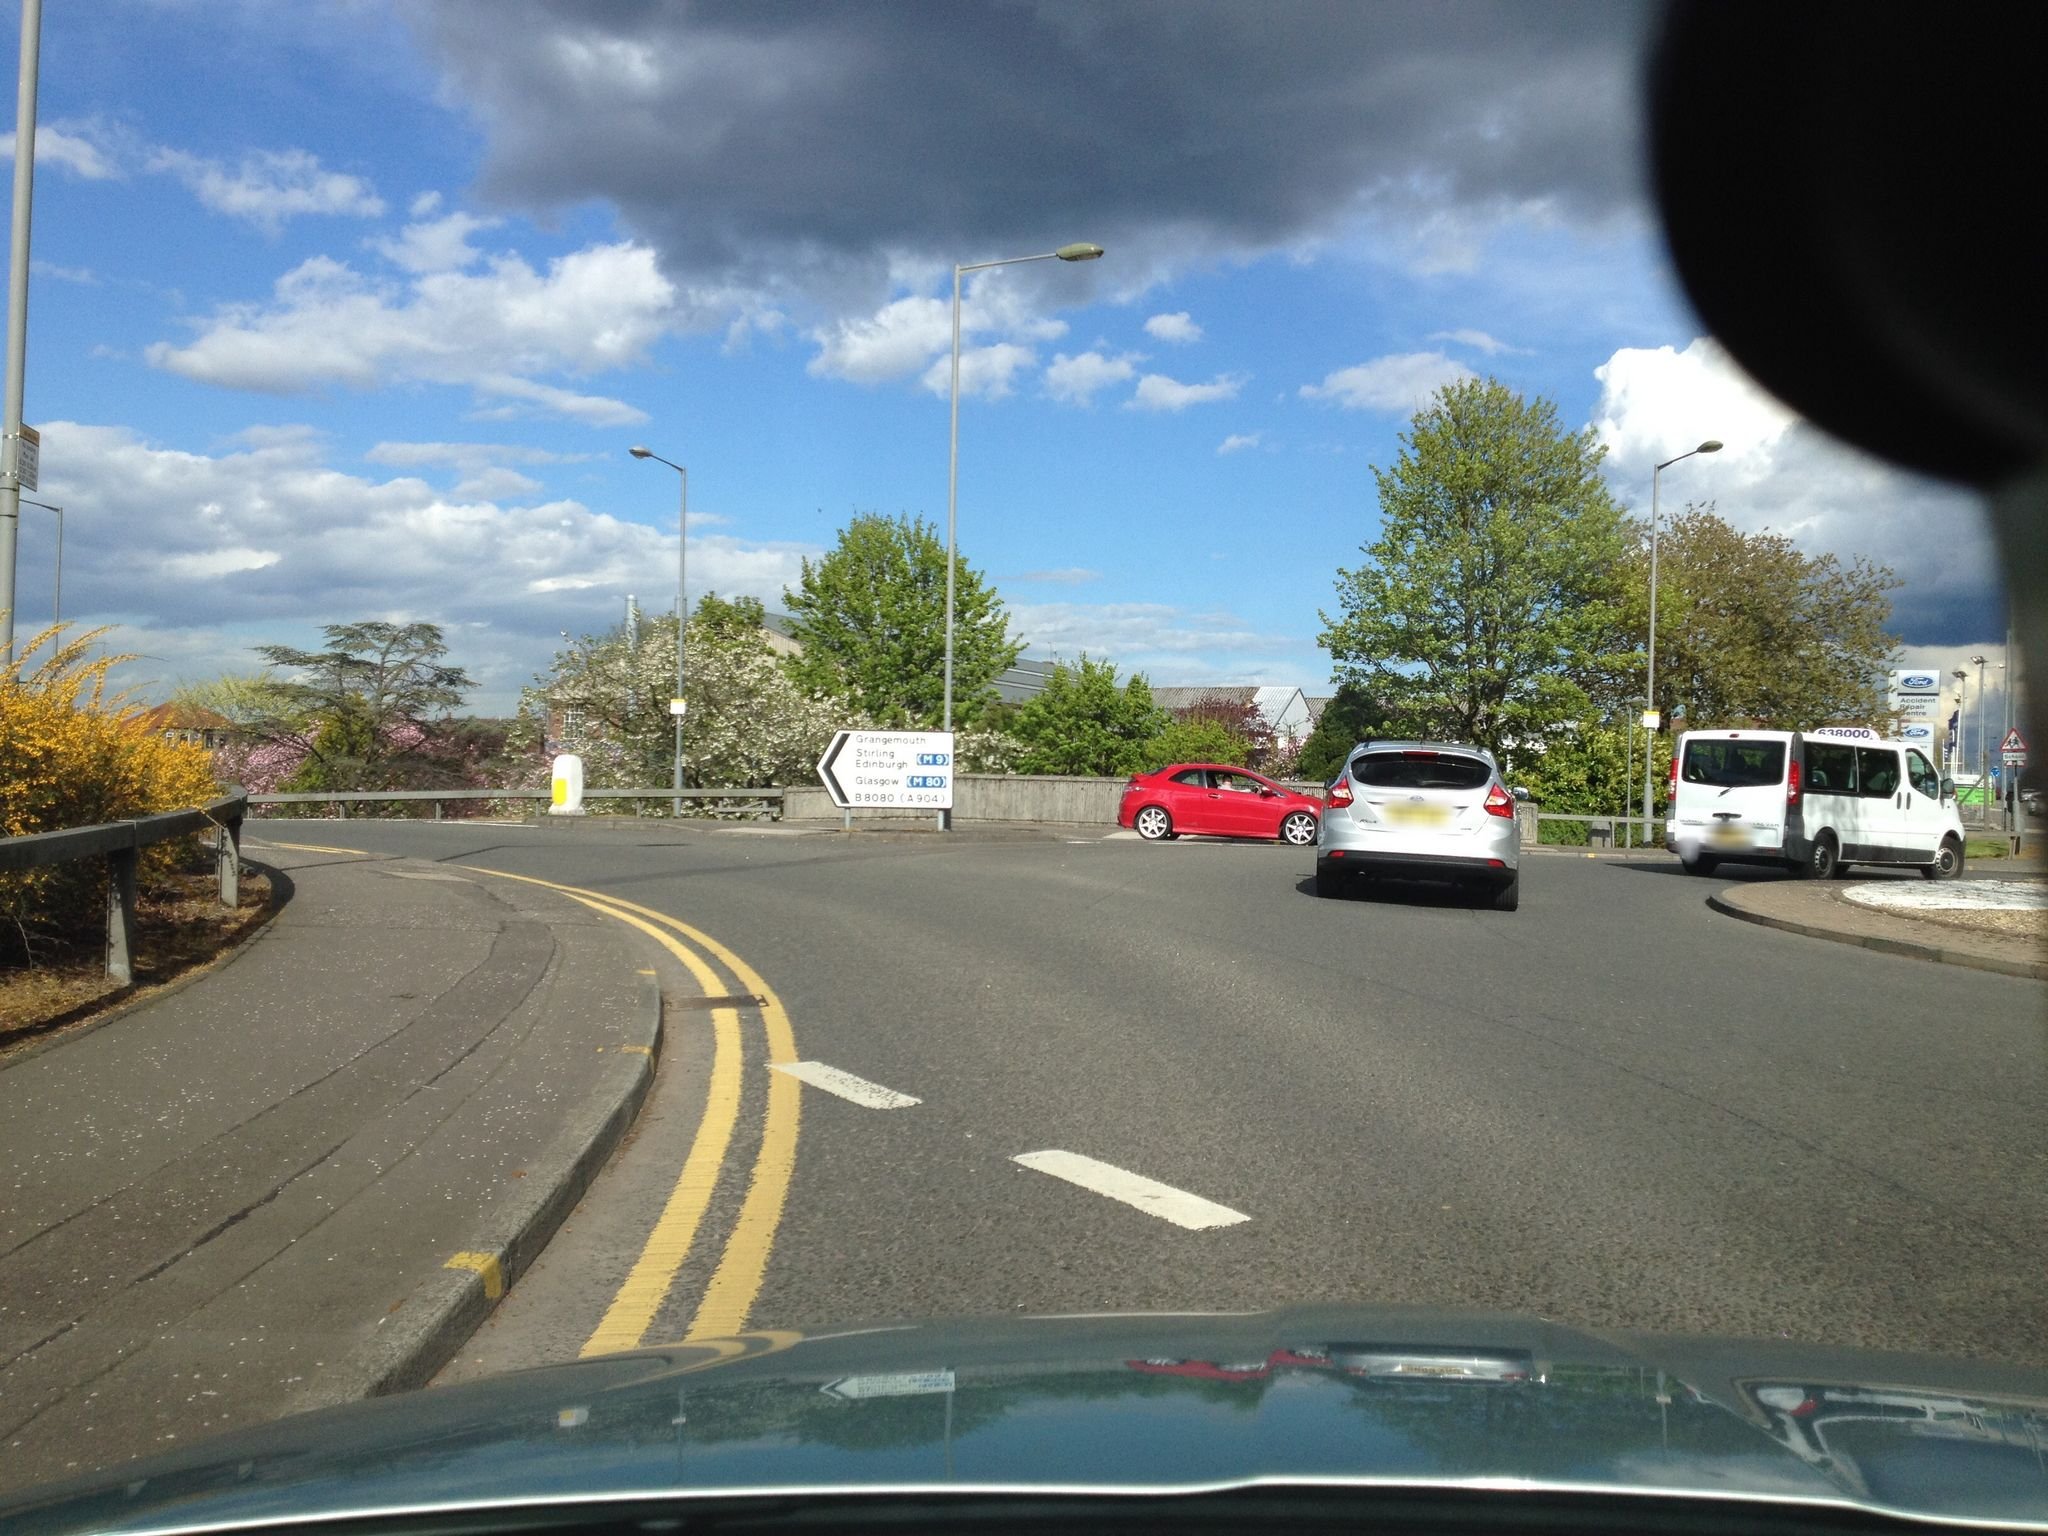car: (1664, 726, 1966, 884), (1317, 737, 1529, 912), (1118, 760, 1322, 845)
